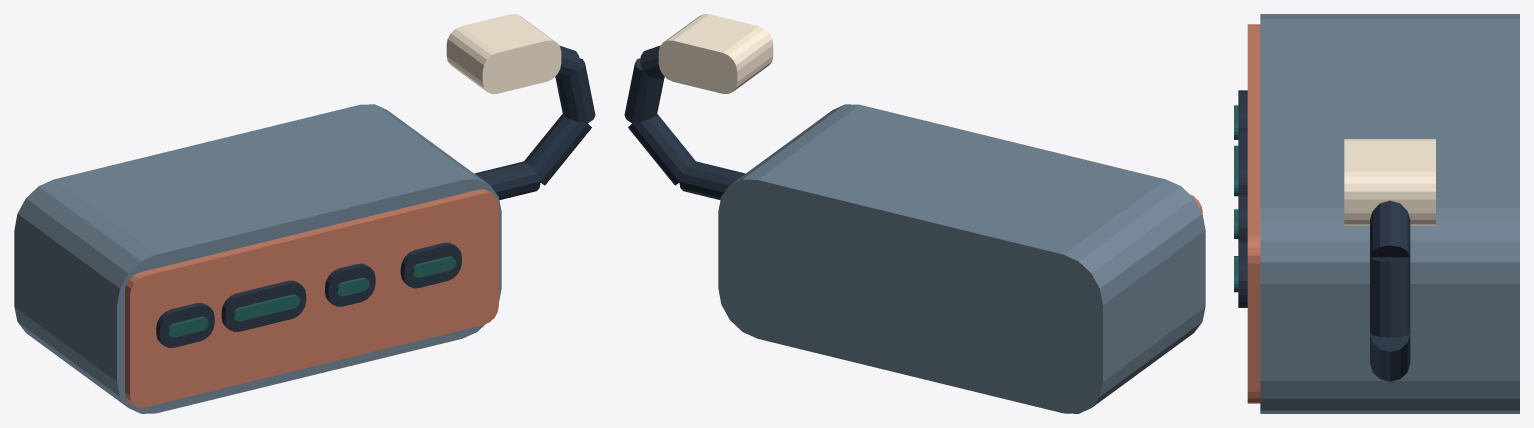
File: adapterhub.glb
3 renders of one model, left to right at view 1: azimuth 30°, elevation 25°; view 2: azimuth 150°, elevation 25°; view 3: azimuth 270°, elevation 25°, orthographic. The views are drawn at different scales.
Parts seen in each view (by area): view 1: shell, face, plug, port 1, cable1, port 3, cable2, cable0, port 0, port 2, port tongue 1, port tongue 3 (+2 smaller); view 2: shell, plug, cable1, cable2, cable0, cable3; view 3: shell, plug, face, cable2, cable3, cable1, port 3, port 1, port 2, port 0.
Boxes of the visible parts, x1,y1,x2,y2 form: shell: [14, 104, 501, 413]; face: [125, 189, 498, 407]; plug: [446, 14, 561, 93]; port 1: [221, 280, 306, 331]; cable1: [524, 114, 591, 185]; port 3: [400, 242, 461, 288]; cable2: [555, 58, 595, 123]; cable0: [474, 161, 540, 200]; port 0: [156, 303, 214, 347]; port 2: [325, 263, 375, 306]; port tongue 1: [233, 294, 300, 321]; port tongue 3: [412, 256, 455, 277]; shell: [718, 104, 1205, 413]; plug: [658, 14, 773, 93]; cable1: [628, 114, 695, 185]; cable2: [624, 58, 664, 123]; cable0: [679, 161, 745, 200]; cable3: [640, 45, 664, 78]; shell: [1260, 14, 1519, 413]; plug: [1344, 139, 1435, 225]; face: [1247, 24, 1260, 403]; cable2: [1370, 257, 1410, 337]; cable3: [1370, 200, 1410, 257]; cable1: [1370, 333, 1410, 381]; port 3: [1238, 241, 1247, 307]; port 1: [1238, 130, 1247, 194]; port 2: [1238, 194, 1247, 241]; port 0: [1238, 90, 1247, 130].
Bounding box in the file's own units: 2.02 × 0.895 × 0.749.
